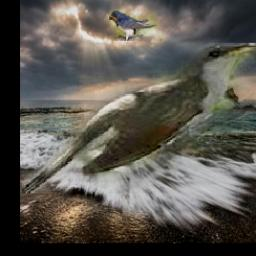Cuckoo: (22, 43, 256, 193)
Swallow: (109, 9, 162, 41)
